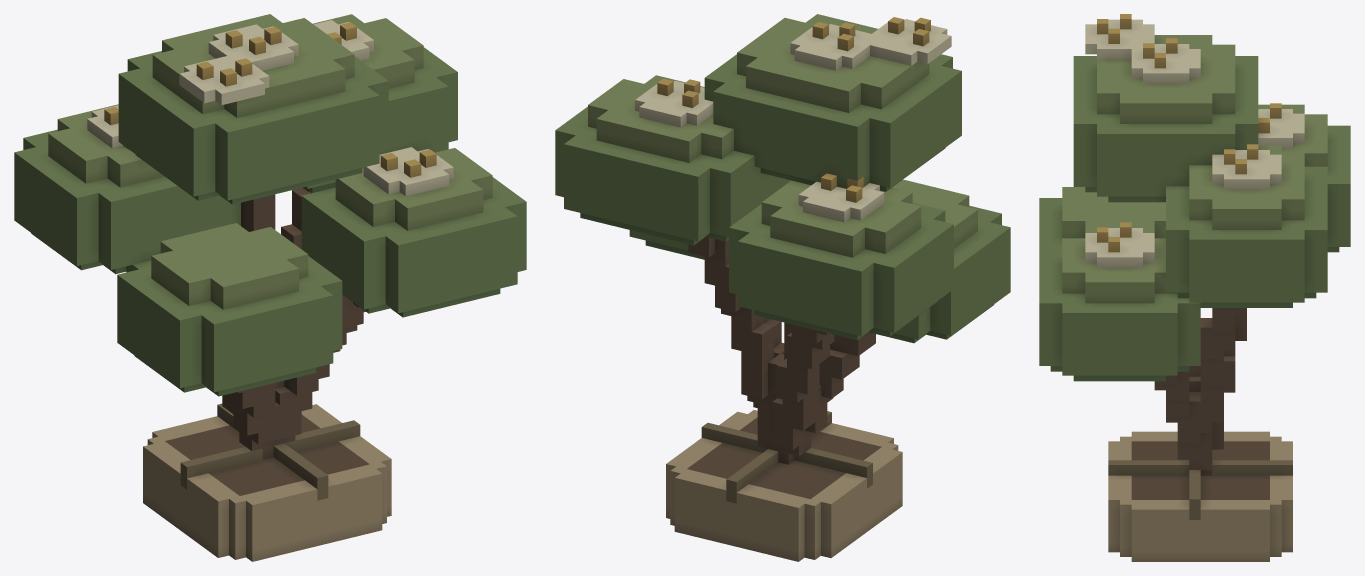
Rendered from elderberry_packed_spring.glb.
3 views of the same model, side by side, from view 1: azimuth 30°, elevation 25°; view 2: azimuth 150°, elevation 25°; view 3: azimuth 270°, elevation 25° (orthographic). The views are drawn at different scales.
Visible parts, largest first — view 1: VoxelVisual; view 2: VoxelVisual; view 3: VoxelVisual.
Part boxes in pixels (bbox=[...]): VoxelVisual: bbox=[14, 14, 526, 561]; VoxelVisual: bbox=[555, 14, 1010, 561]; VoxelVisual: bbox=[1039, 14, 1350, 561].
Size of what is drawn, in the model's own units: 2.12 by 2.75 by 1.69.
